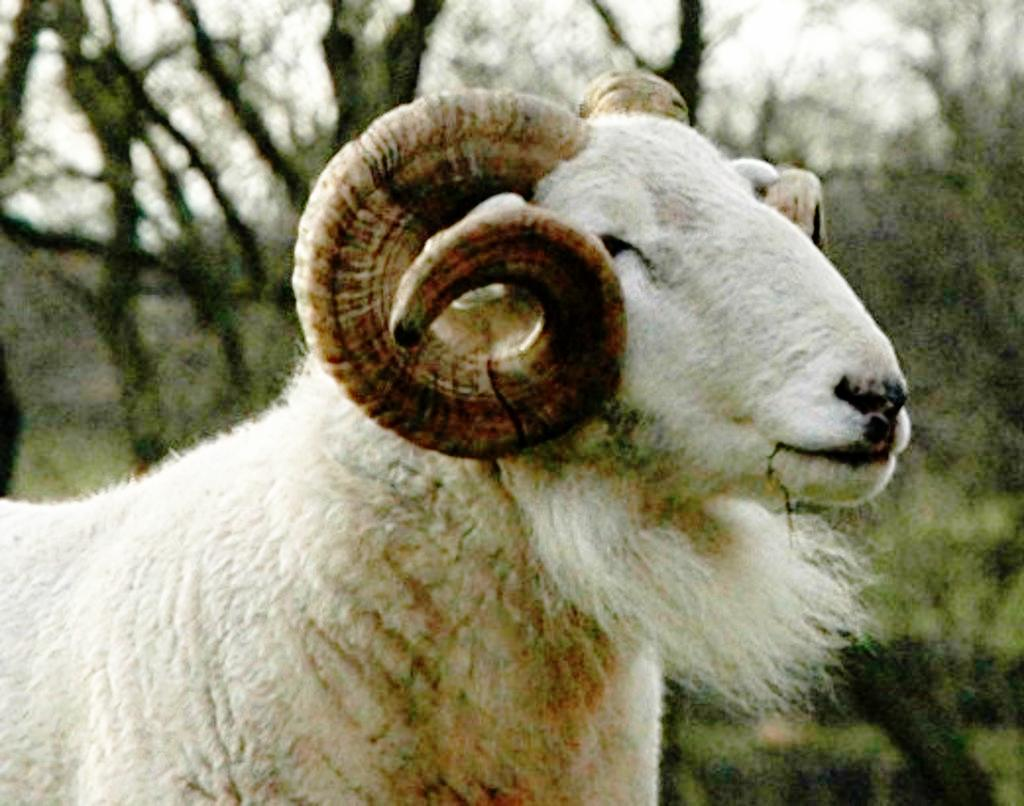Sheep: (0, 69, 910, 806)
